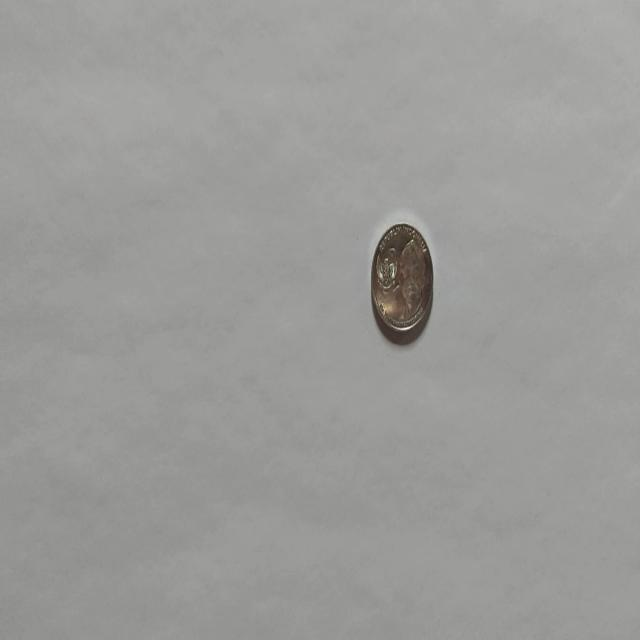dua ratus rupiah: (370, 220, 434, 344)
